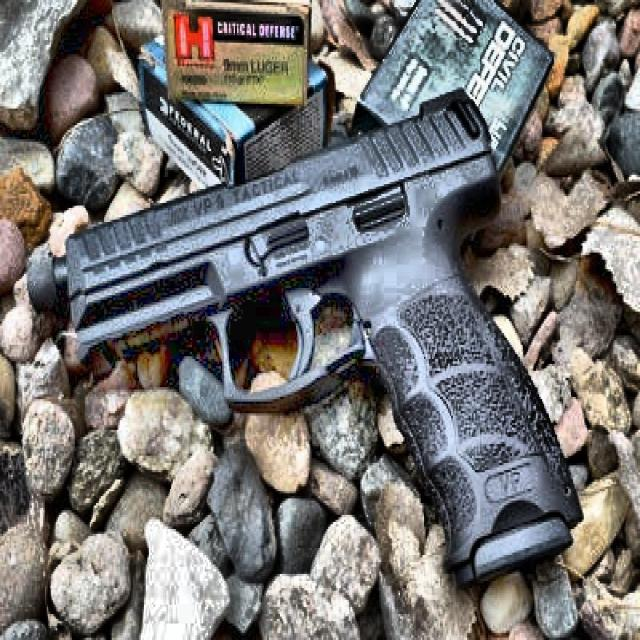HKVP9: (25, 89, 585, 591)
